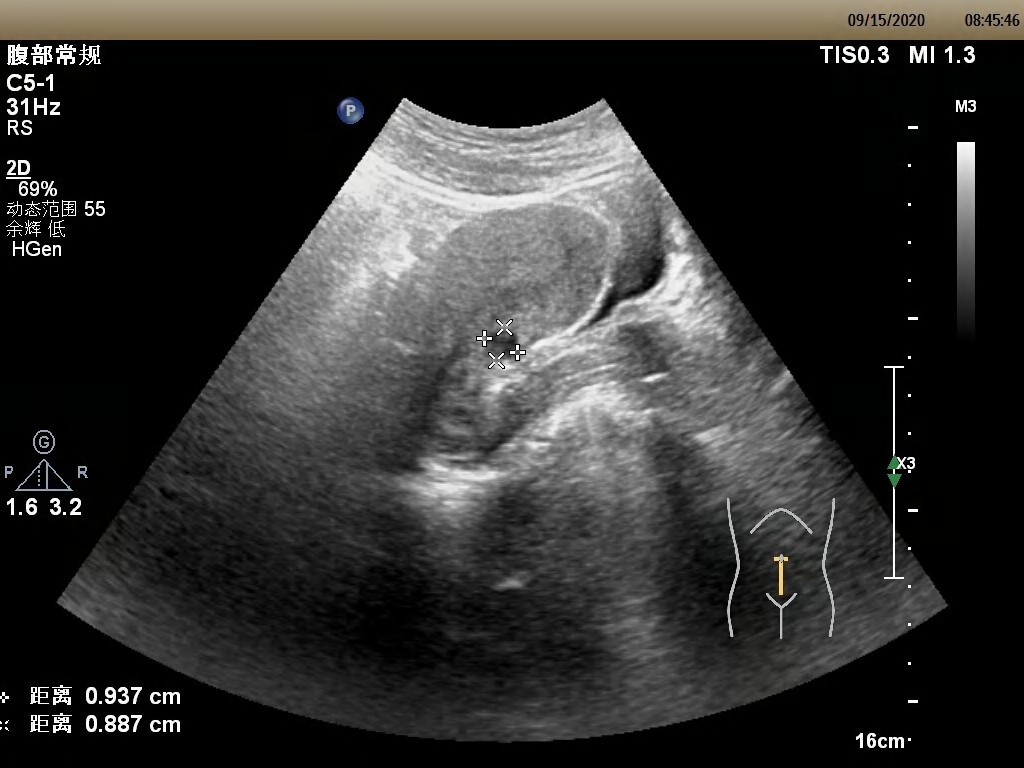肌瘤: (484, 323, 521, 363)
